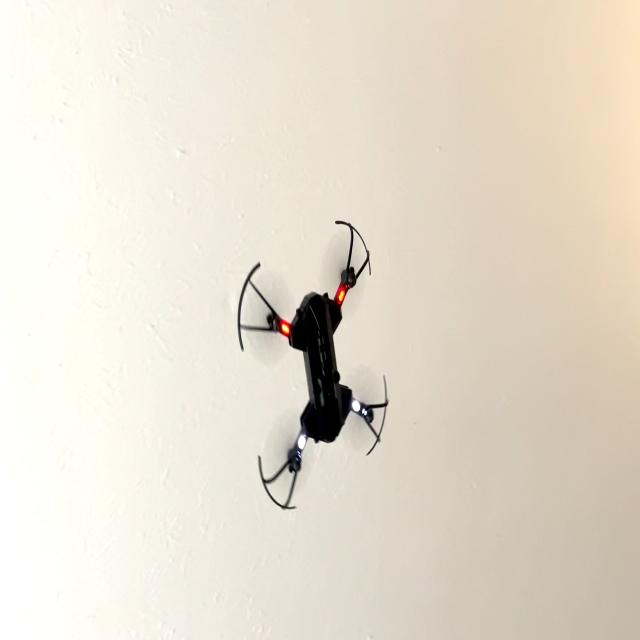drone: (227, 191, 406, 524)
